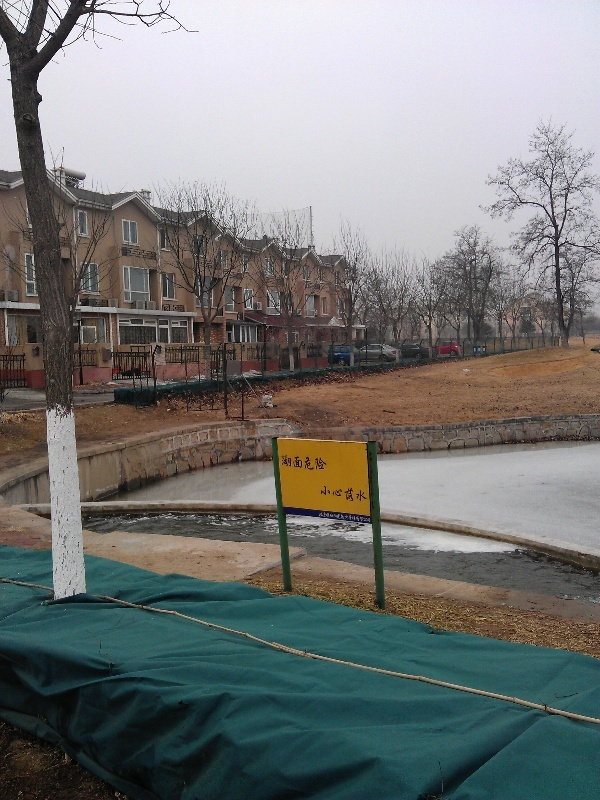text: (321, 484, 336, 503), (337, 484, 352, 503), (289, 454, 304, 472), (305, 454, 320, 472), (353, 484, 367, 503), (321, 512, 336, 524), (337, 512, 352, 524), (353, 512, 368, 524), (281, 454, 288, 472), (321, 454, 327, 472), (369, 512, 371, 524), (319, 512, 320, 524)
